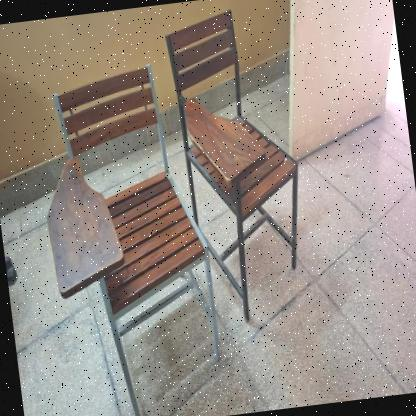chair: (25, 51, 237, 416), (155, 0, 317, 330)
